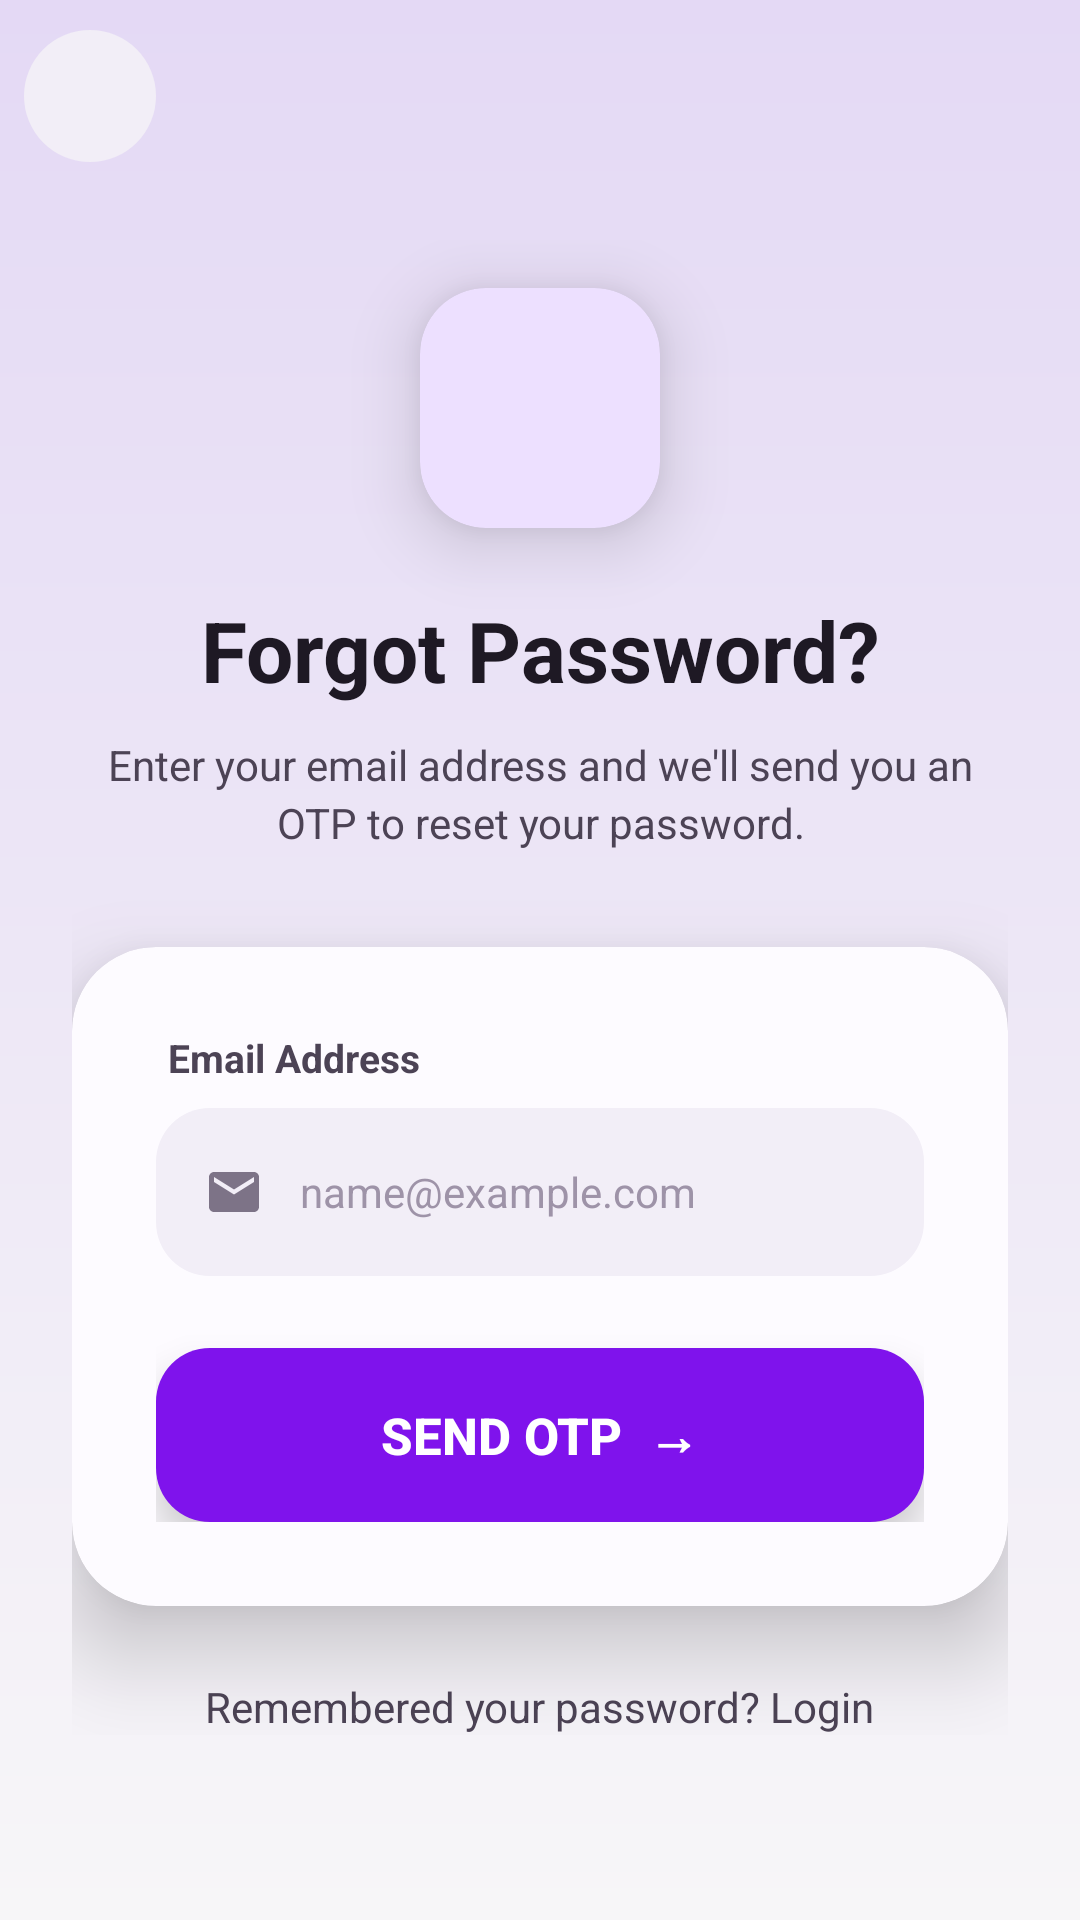

Screen size 1080×1920. Icon name, then its center in pixels as point (x, y):
login mail: point (234, 1192)
